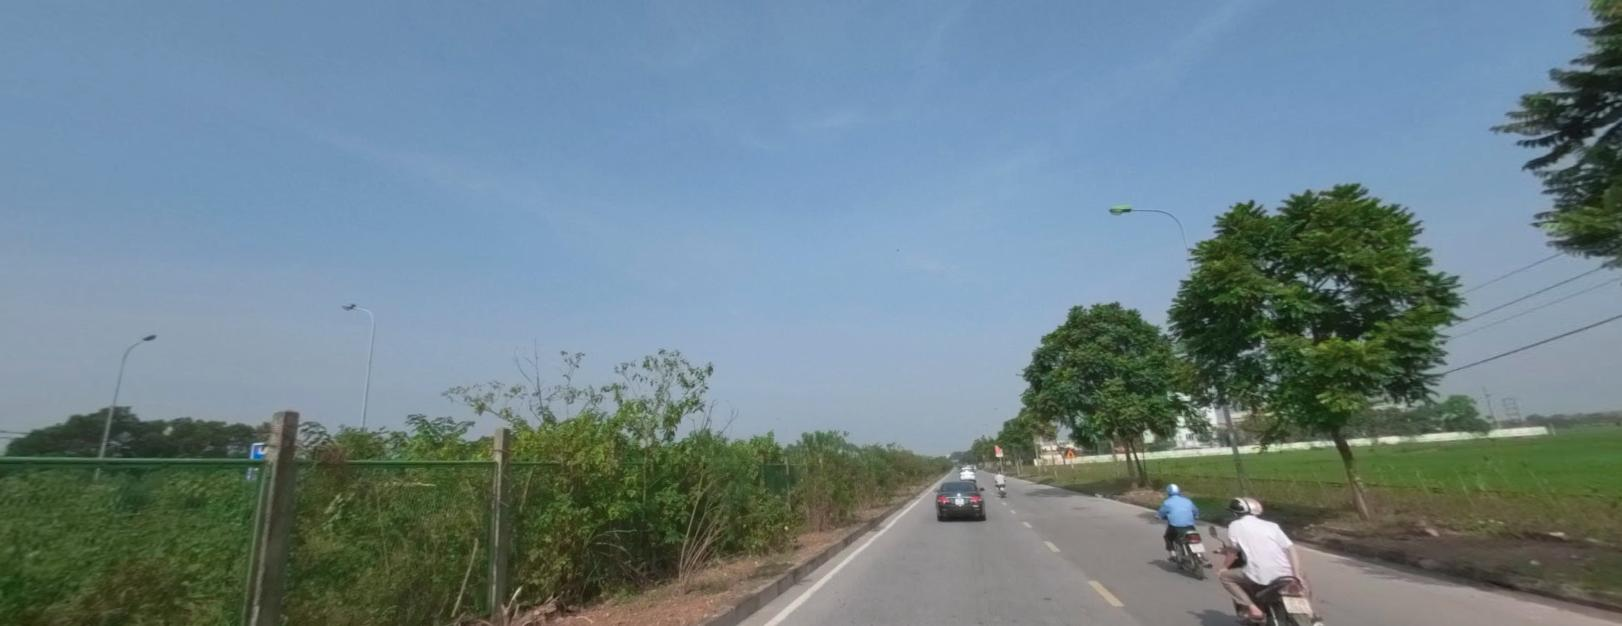Nguy hiem: (1064, 447, 1075, 457), (1064, 447, 1076, 456)
